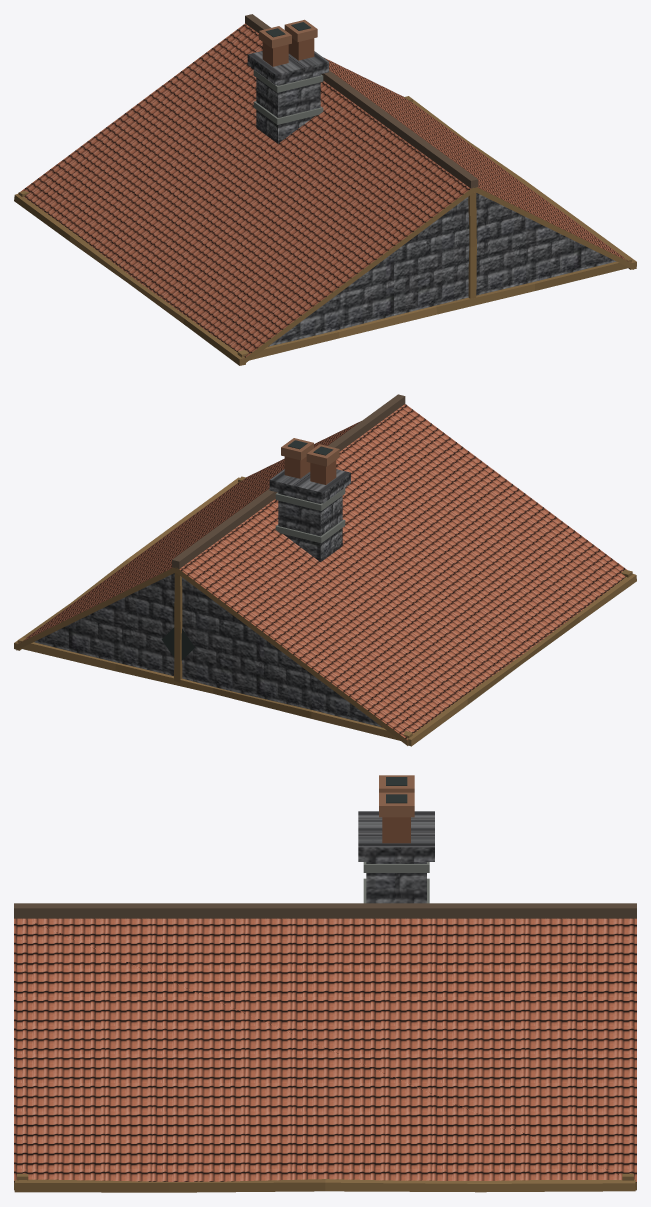
The model's file is town_Roof_11_saltbox.glb.
3 renders of one model, top to bottom at view 1: azimuth 30°, elevation 25°; view 2: azimuth 150°, elevation 25°; view 3: azimuth 270°, elevation 25°, orthographic. The views are drawn at different scales.
Parts seen in each view (by area): view 1: town_Roof_11_saltbox.005; view 2: town_Roof_11_saltbox.005; view 3: town_Roof_11_saltbox.005.
Boxes of the visible parts, x1=… form: town_Roof_11_saltbox.005: x1=14, y1=14, x2=636, y2=365; town_Roof_11_saltbox.005: x1=14, y1=394, x2=636, y2=746; town_Roof_11_saltbox.005: x1=14, y1=775, x2=636, y2=1192.
Size of the model in its own units: 7.13 by 3.24 by 7.
3 materials, 2 textured.
